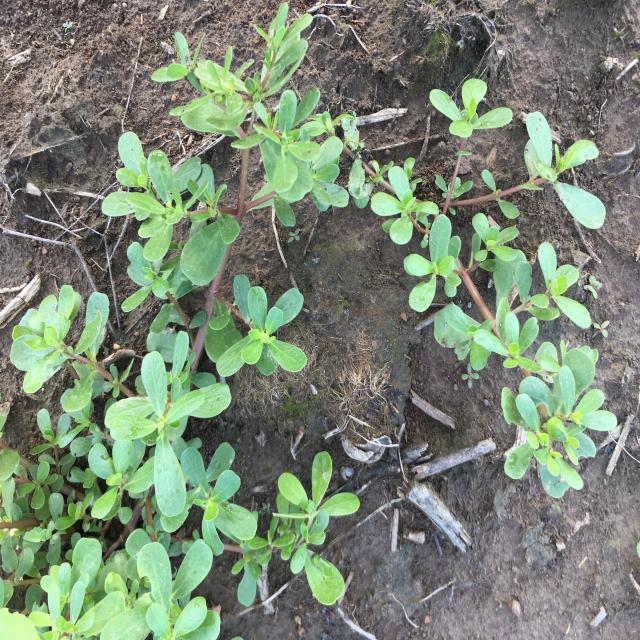Purslane: (0, 2, 360, 640), (300, 78, 618, 499)
